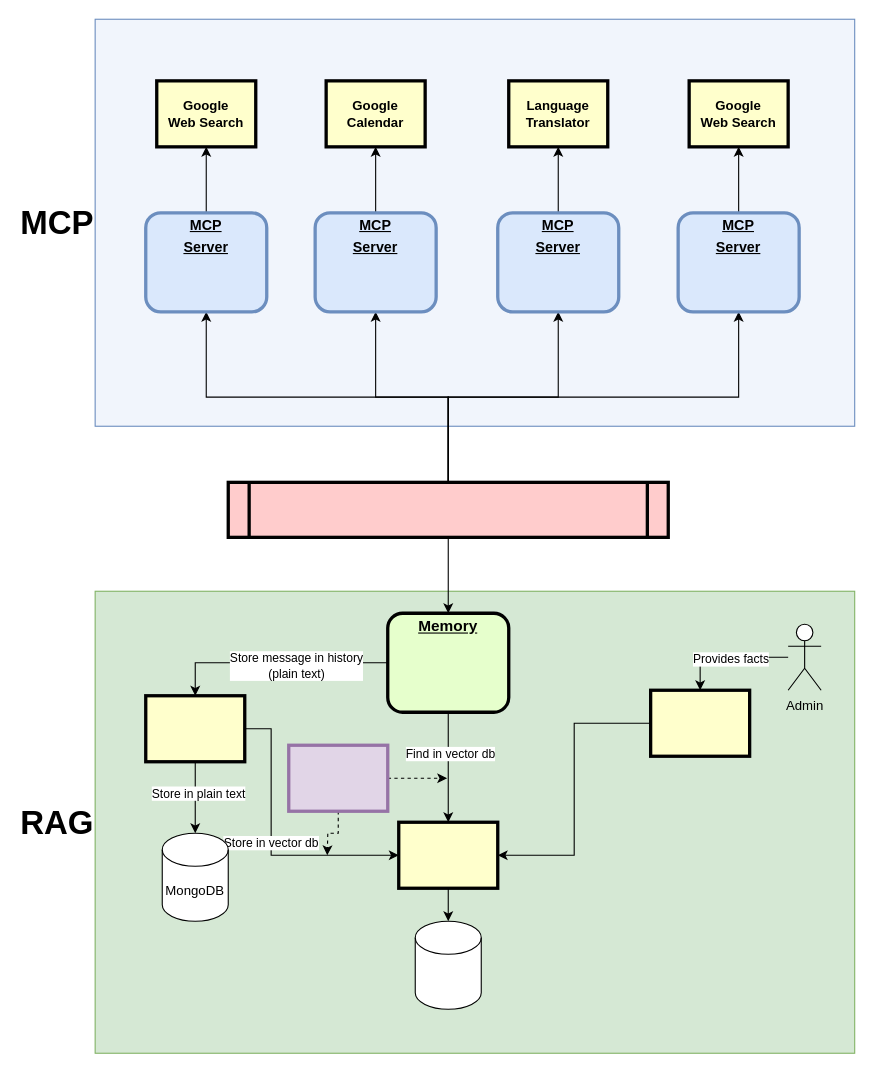
This 873x1073 diagram has some shape labels left out. The centre of each missing label's shape, as x and y in pixels:
"AI-CHATBOT" belongs at point (447, 509).
"Chat history" belongs at point (195, 728).
"ChromaDB" belongs at point (447, 964).
"Embeddings" belongs at point (338, 777).
"Knowledge (docs)" belongs at point (699, 722).
"Semantic Search" belongs at point (448, 854).
